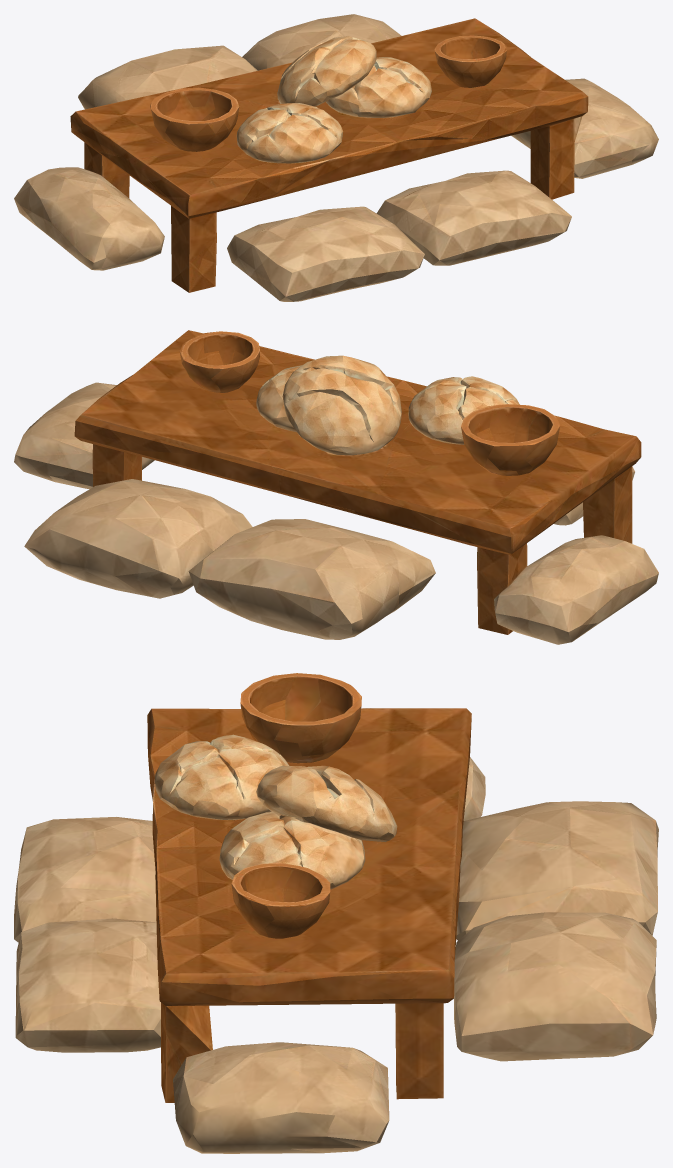
The model's file is king-table.glb.
3 views of the same model, one above another, from view 1: azimuth 30°, elevation 25°; view 2: azimuth 150°, elevation 25°; view 3: azimuth 270°, elevation 25° (orthographic). The views are drawn at different scales.
Size of the model in its own units: 1.9 by 0.5267 by 1.41.
1 material, 1 textured.
